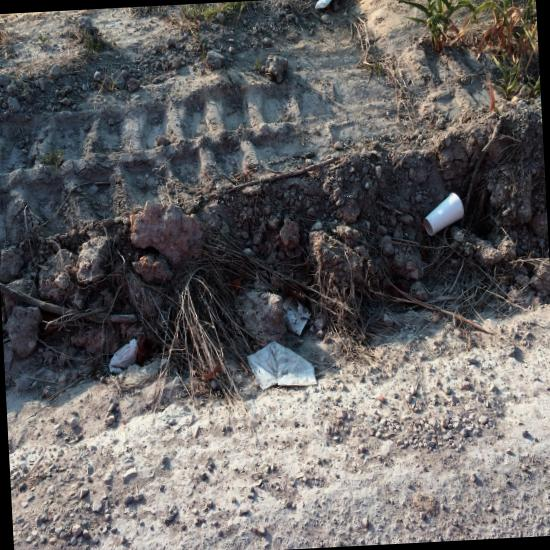Cigarette: (254, 378, 259, 387)
Other carton: (282, 295, 312, 337)
Other plastic: (248, 342, 317, 391)
Other plastic container: (315, 0, 332, 10)
Paper cup: (423, 193, 463, 236)
Unlabeled litter: (110, 339, 138, 374), (207, 3, 212, 7)
